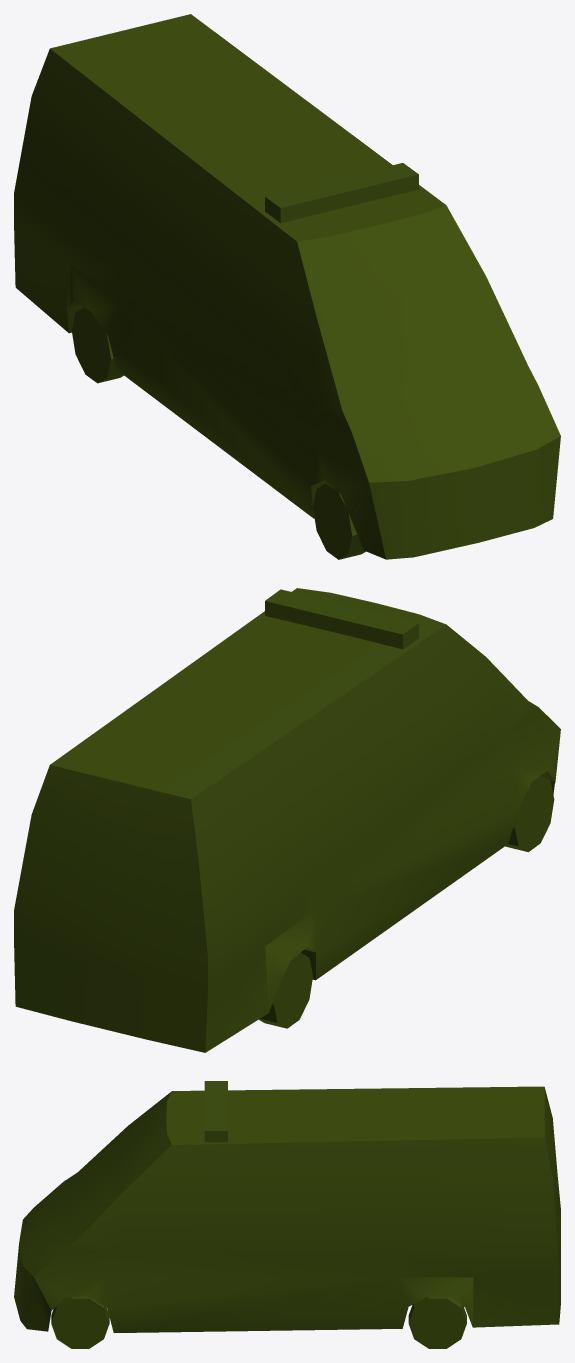
Rendered from Vehicle04A_M.fbx.
3 renders of one model, top to bottom at view 1: azimuth 30°, elevation 25°; view 2: azimuth 150°, elevation 25°; view 3: azimuth 270°, elevation 25°, orthographic. The views are drawn at different scales.
Parts seen in each view (by area): view 1: Vehicle04A; view 2: Vehicle04A; view 3: Vehicle04A.
Boxes of the visible parts, left/top/right/bottom form: Vehicle04A: left=14, top=14, right=560, bottom=559; Vehicle04A: left=14, top=588, right=560, bottom=1052; Vehicle04A: left=14, top=1081, right=560, bottom=1348.
Bounding box in the file's own units: 1.63 × 2.01 × 4.82.
